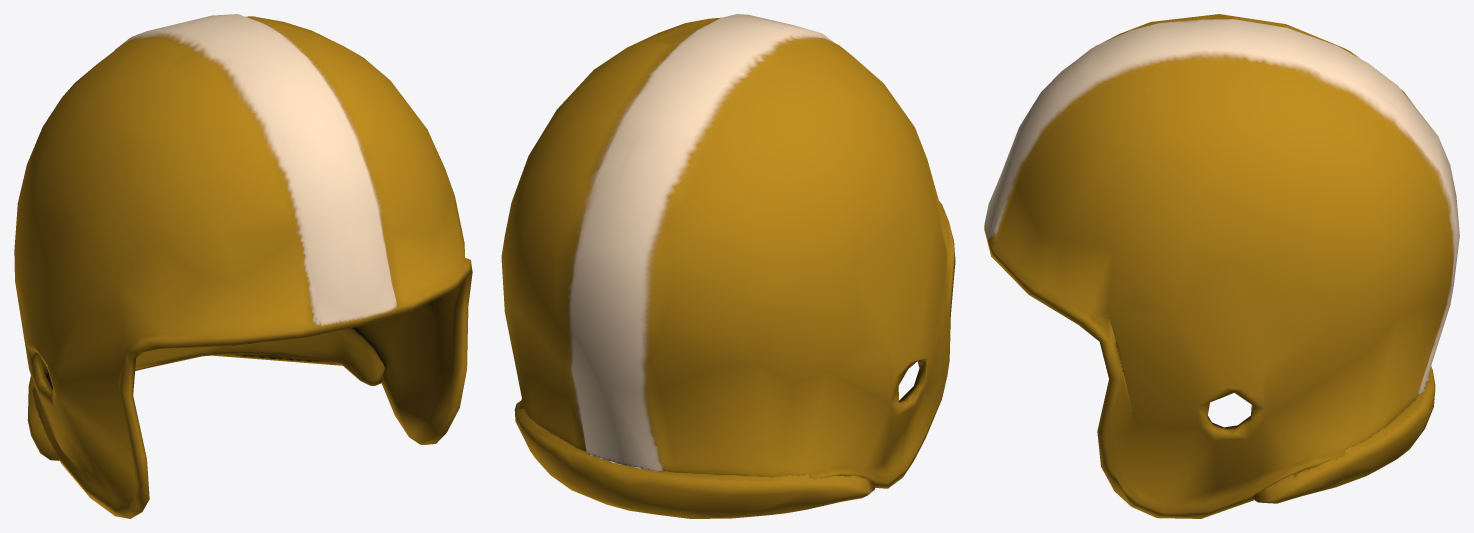
The model's file is Helmet_setuped.fbx.
3 views of the same model, side by side, from view 1: azimuth 30°, elevation 25°; view 2: azimuth 150°, elevation 25°; view 3: azimuth 270°, elevation 25° (orthographic). The views are drawn at different scales.
Visible parts, largest first — view 1: football_helmet_f3; view 2: football_helmet_f3; view 3: football_helmet_f3.
Part boxes in pixels (x1=…): football_helmet_f3: x1=14, y1=14, x2=472, y2=518; football_helmet_f3: x1=501, y1=14, x2=955, y2=518; football_helmet_f3: x1=984, y1=14, x2=1459, y2=518.
Bounding box in the file's own units: 23.42 × 23.71 × 24.79.
Materials: 1 (1 with a texture image).
